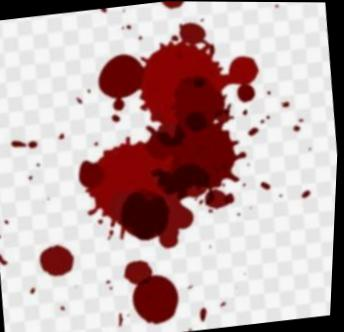Fire: (80, 22, 260, 249), (126, 260, 182, 324), (41, 245, 77, 276), (161, 1, 184, 9)
